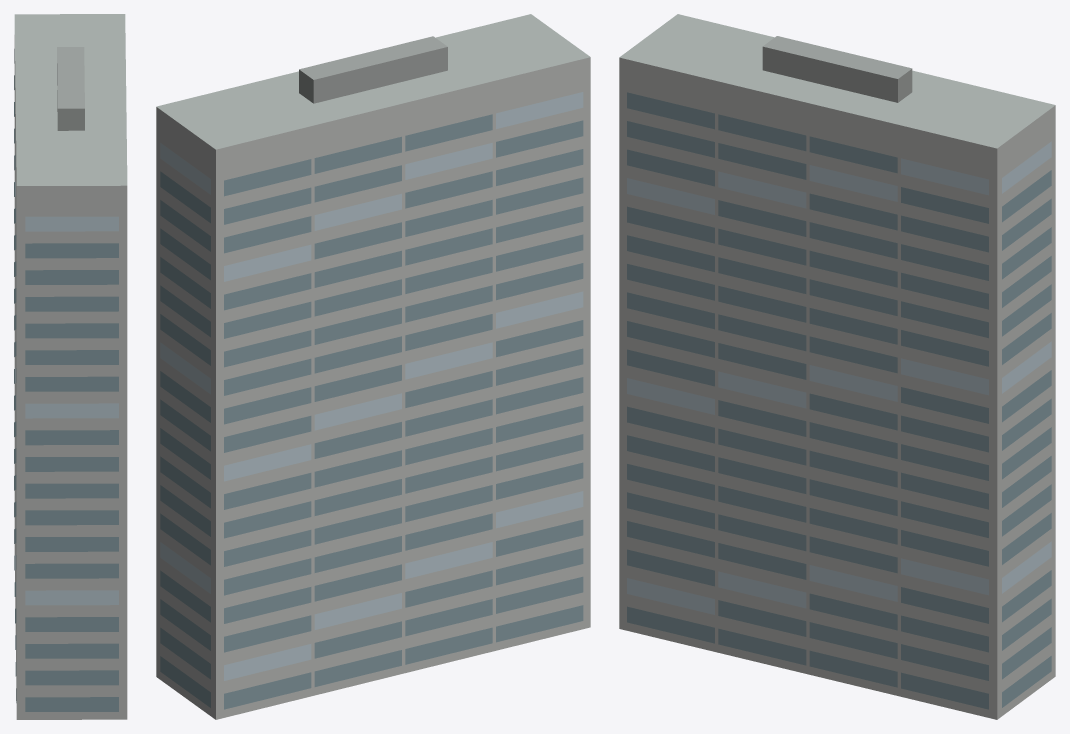
The model's file is fallback-dmc-raemian-e-pyeonhansesang-104.glb.
3 renders of one model, left to right at view 1: azimuth 30°, elevation 25°; view 2: azimuth 150°, elevation 25°; view 3: azimuth 270°, elevation 25°, orthographic. The views are drawn at different scales.
Parts seen in each view (by area): view 1: fallback-dmc-raemian-e-pyeonhansesang-104; view 2: fallback-dmc-raemian-e-pyeonhansesang-104; view 3: fallback-dmc-raemian-e-pyeonhansesang-104.
Part boxes in pixels (<box>): fallback-dmc-raemian-e-pyeonhansesang-104: <box>14,14,127,719</box>; fallback-dmc-raemian-e-pyeonhansesang-104: <box>156,14,590,719</box>; fallback-dmc-raemian-e-pyeonhansesang-104: <box>619,14,1055,719</box>.
Bounding box in the file's own units: 29.1 × 60 × 39.89.
